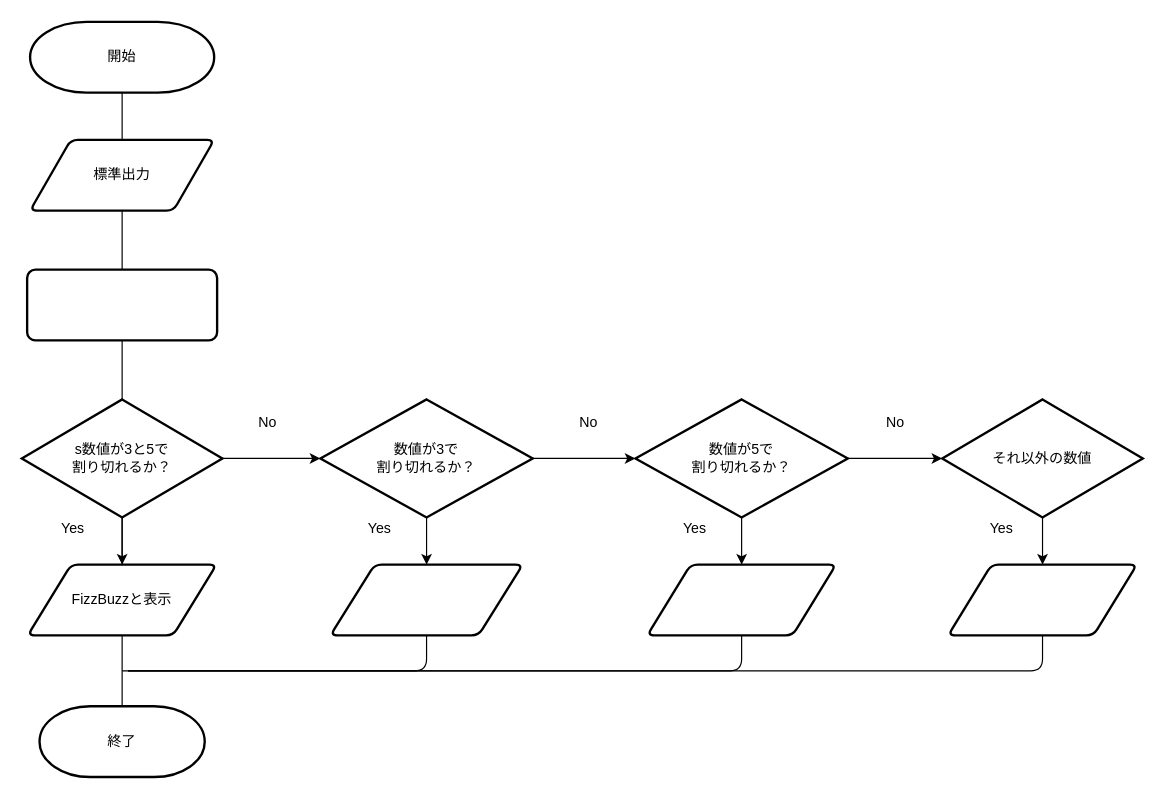
Some shapes in this 1163 by 798 pixel diagram are drawn without their labels. Here are the shapes that lost their labels. From the top down, the centre of each, then its label:
pixel 121 304: 標準入力の値を数値に変換
pixel 426 599: Fizzと表示
pixel 741 599: Buzzと表示
pixel 1042 599: 数値と表示
